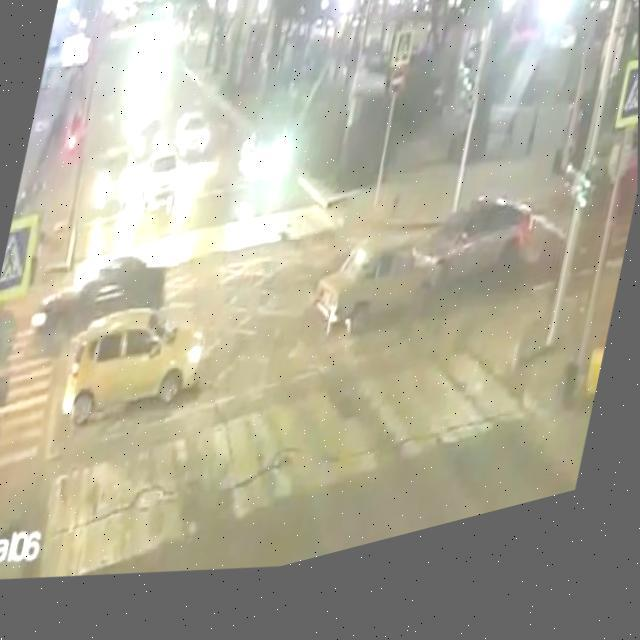Car Accident Detector - v4 Generation1 Exported: (308, 172, 550, 390)
